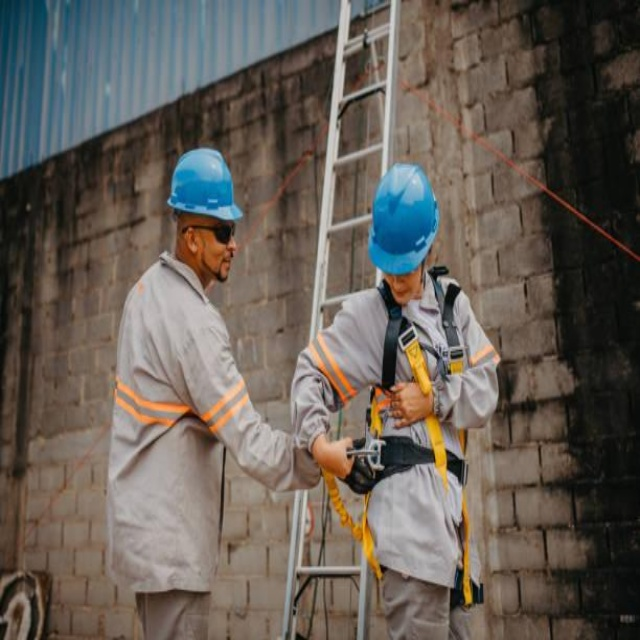Arnes_seguridad: (361, 275, 481, 619)
